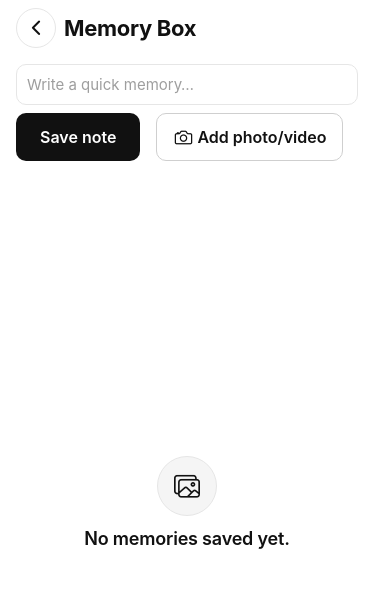
Test: MemoryBoxScreen › shows a permission error when photo library access is denied
The image size is (375, 589).
Check: the element with test id "memory-empty" is shown, box [84,456,290,549]
Click the button with test id "memory-add-photo-button".
click(250, 137)  # box [156,113,343,161]
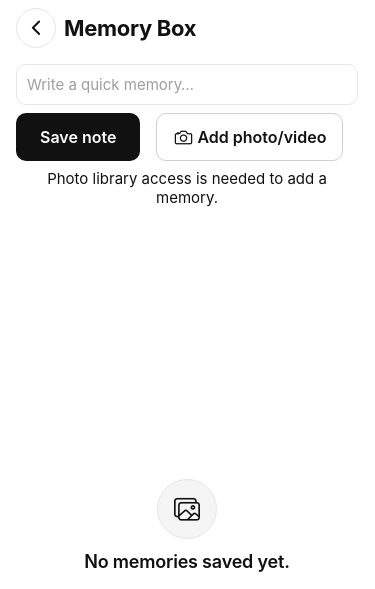
Check: the text "Photo library access is needed to add a memory." is shown, box [47,169,331,207]
